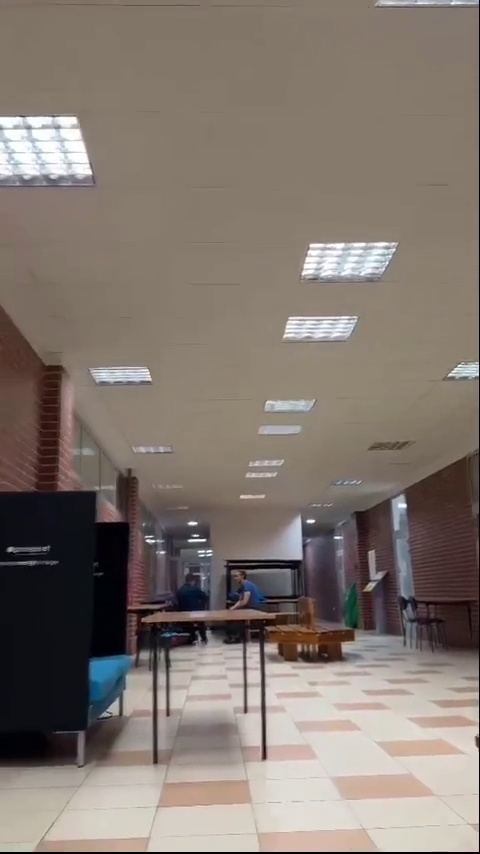drone: (160, 632, 191, 644)
no vest: (225, 568, 259, 613), (173, 573, 207, 612)
